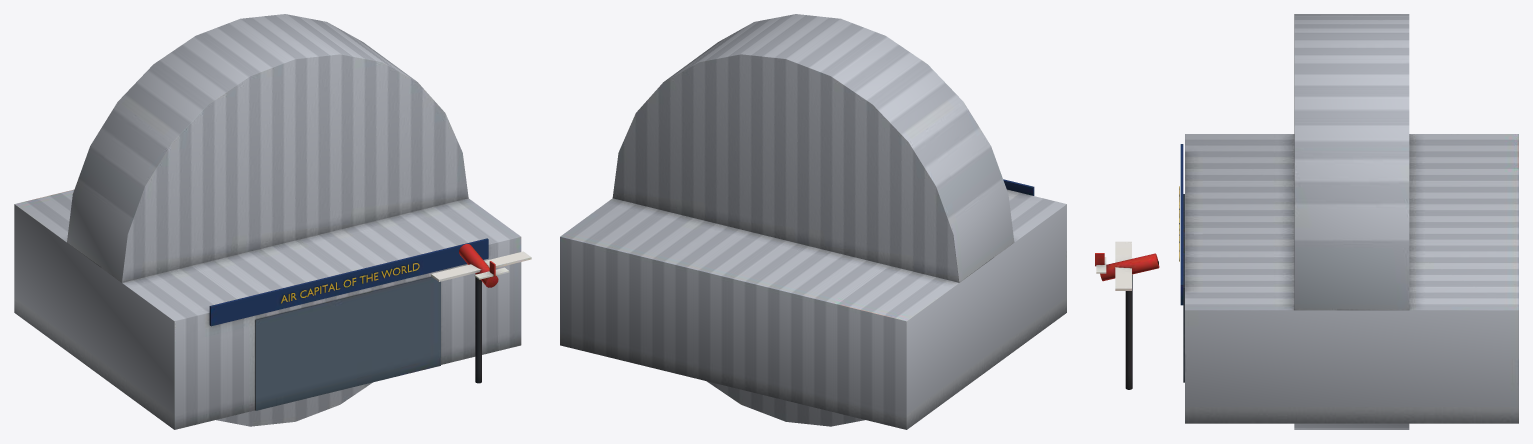
File: museo_aviacion.glb
The picture shows the model from 3 angles, left to right: view 1: azimuth 30°, elevation 25°; view 2: azimuth 150°, elevation 25°; view 3: azimuth 270°, elevation 25°; orthographic projection. The views are drawn at different scales.
Parts seen in each view (by area): view 1: museo_aviacion; view 2: museo_aviacion; view 3: museo_aviacion.
Part boxes in pixels (left/top/right/bottom): museo_aviacion: left=14, top=14, right=531, bottom=429; museo_aviacion: left=560, top=14, right=1066, bottom=429; museo_aviacion: left=1095, top=14, right=1518, bottom=429.
Size of the model in its own units: 30 by 30 by 30.45.
1 material, 1 textured.
